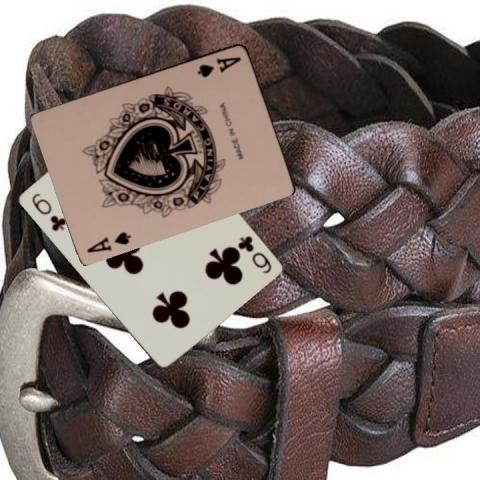6c: (28, 190, 67, 233), (234, 232, 273, 275)
As: (194, 53, 243, 79), (84, 228, 133, 254)
